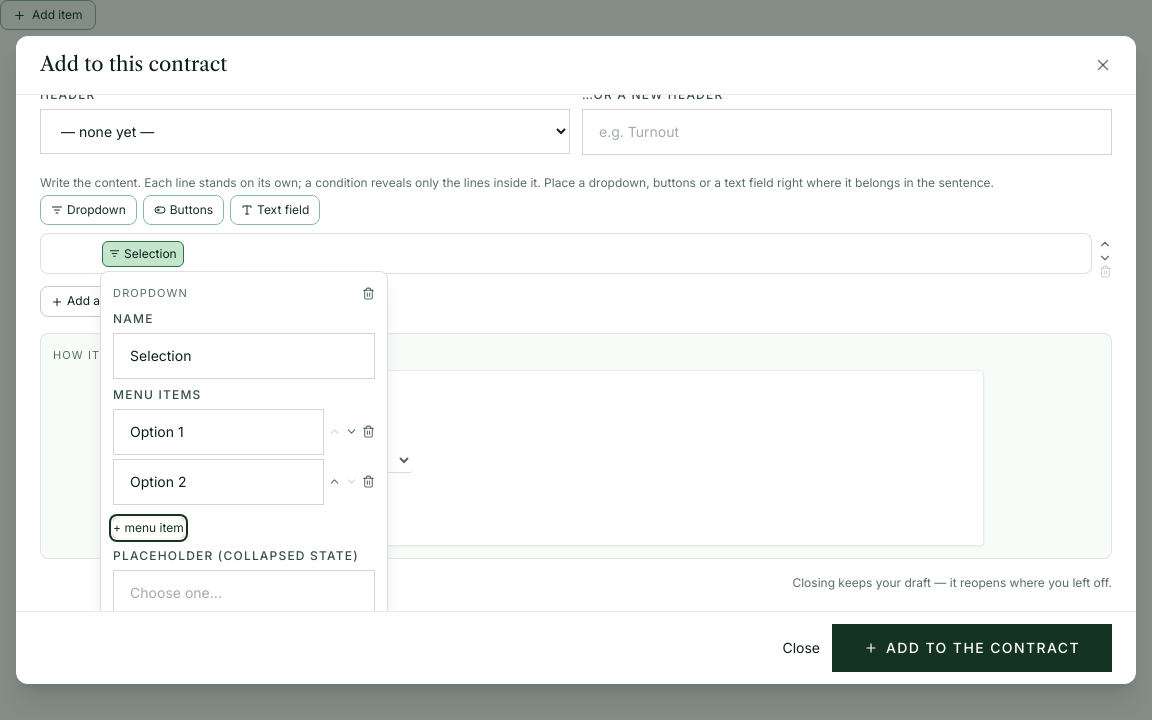
Test: S3 — the chip config surface › working INSIDE the popover does not close it
Earlier steps of the test are not shown.
(page scrolled)
Click the button "+ menu item" at (148, 528), box [113,518,184,538]
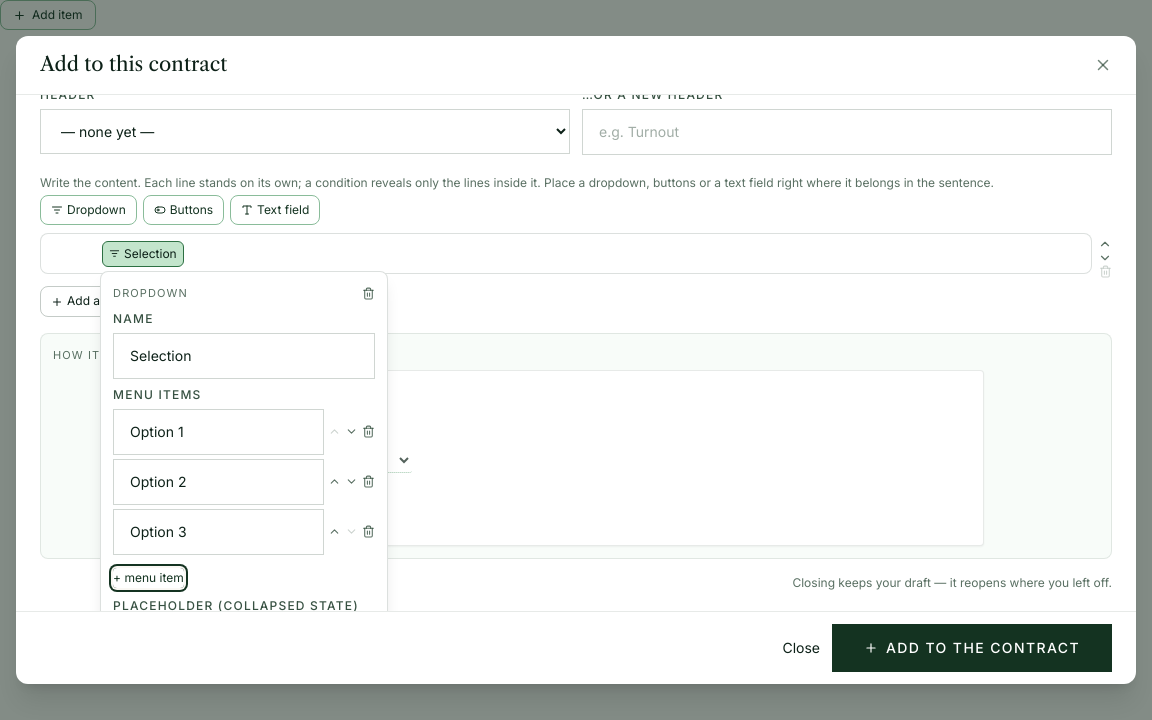
Clear the 6th field at (219, 482), box [113,459,324,505]
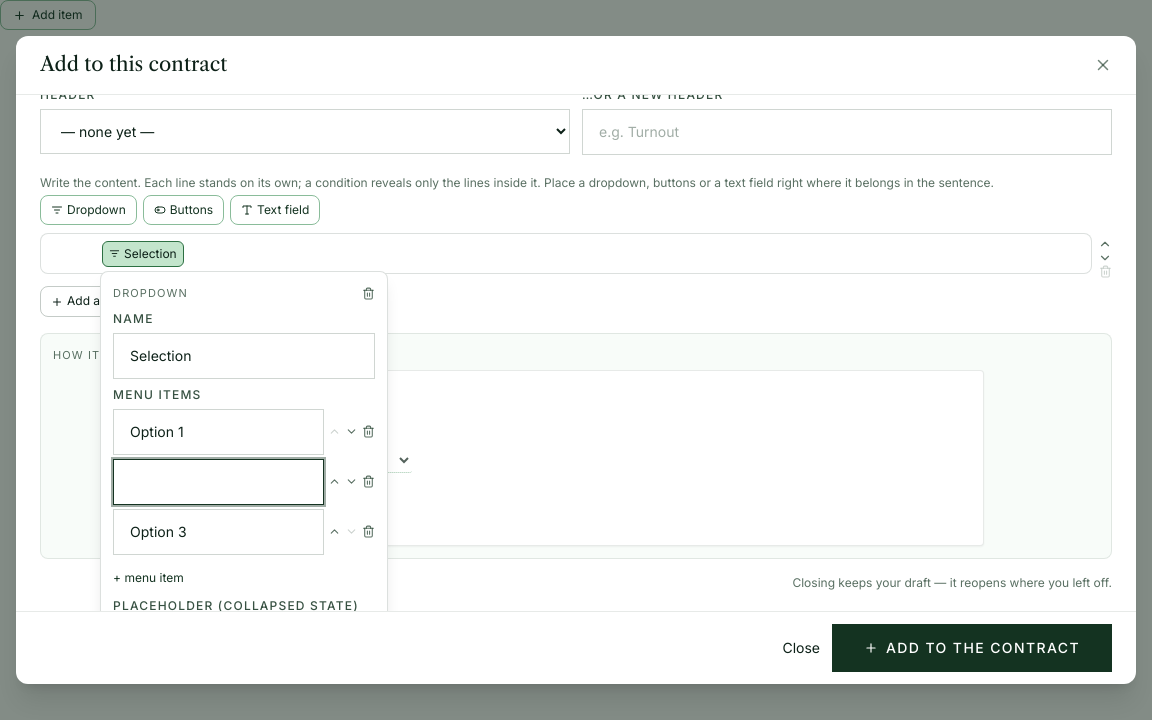
Type keys "Weekends only"
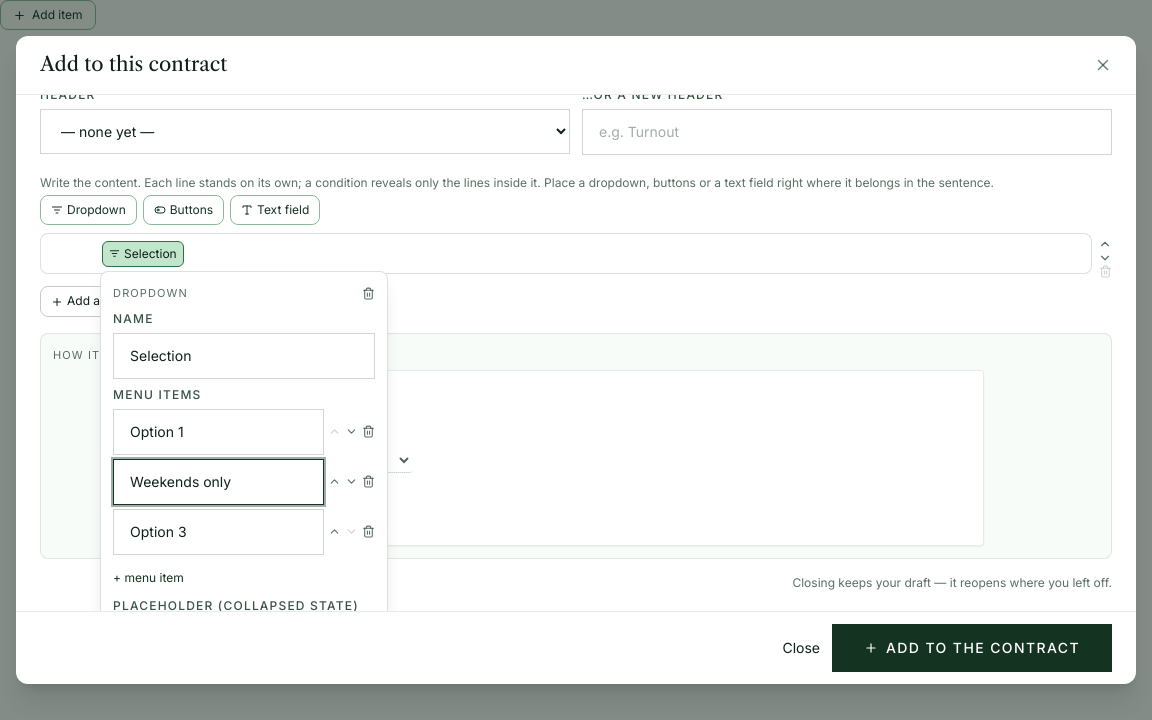
Expected: the field with placeholder "What this asks for" is shown, [113,333,375,379]
Now the 2nd field showing "Weekends only" holds "Weekends only", box [113,459,324,505]
